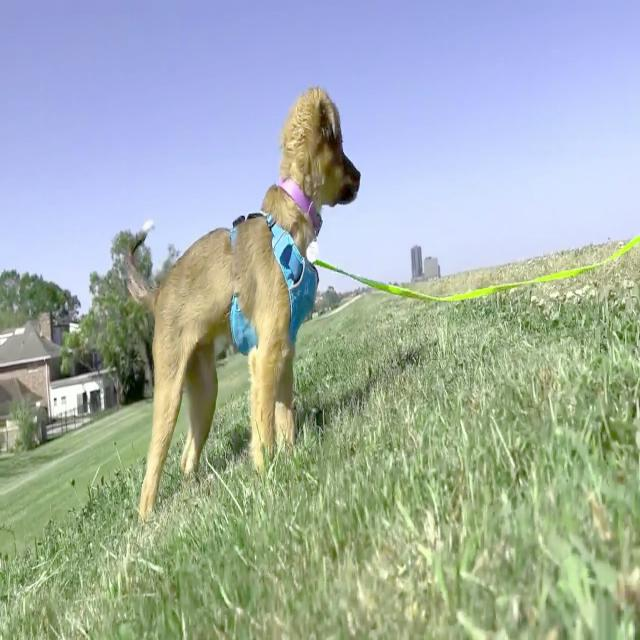Dog: (123, 85, 361, 522)
